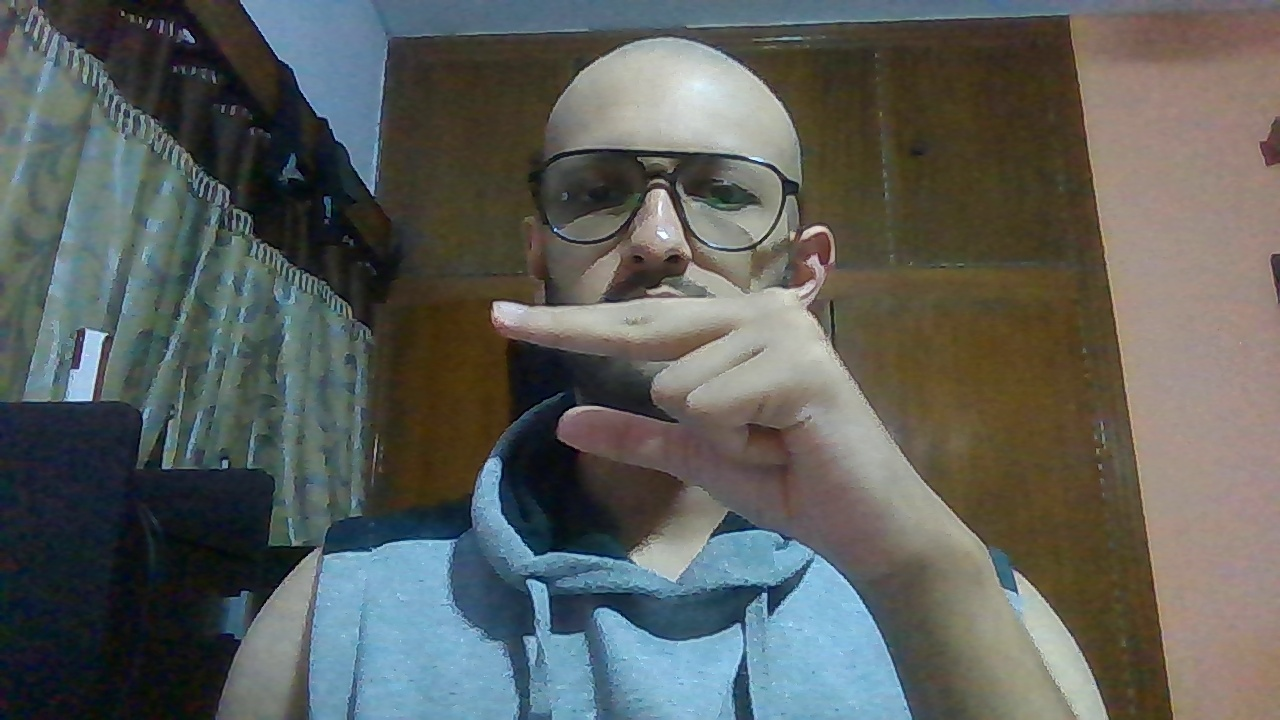No: (487, 281, 965, 557)
